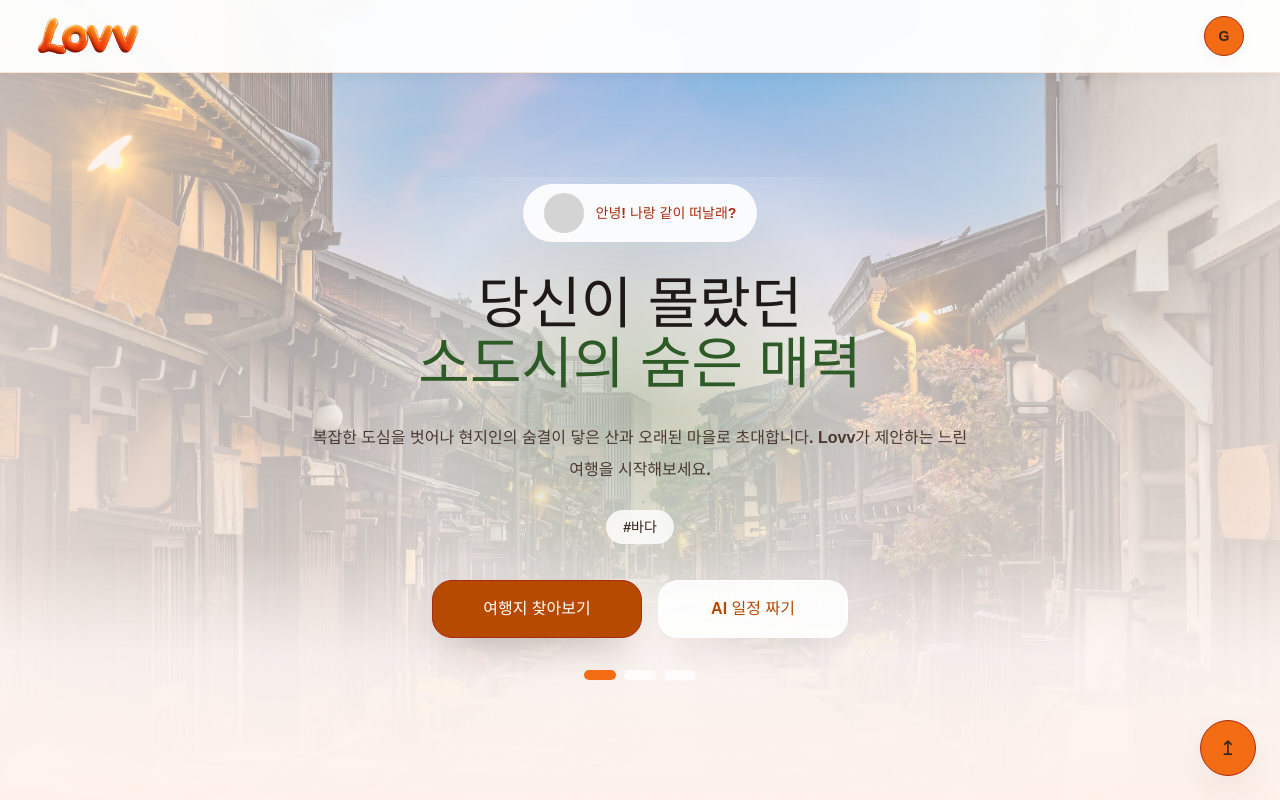
Test: MVP main entry screen › opens floating quick actions for chat and top navigation
Click the button named "빠른 이동 메뉴 열기". click: (1228, 748)
box: [1200,720,1256,776]
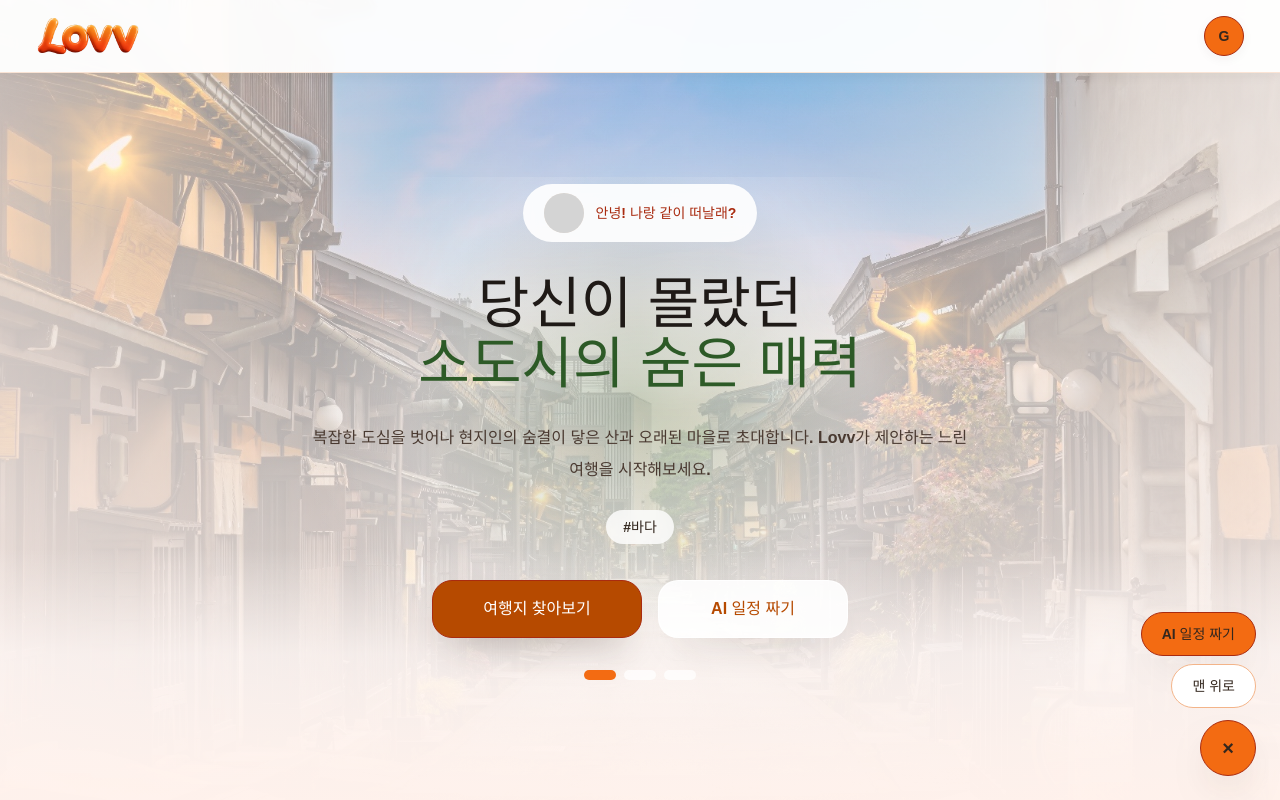
Result: the button with aria-label "AI 일정 짜기 바로가기" is shown
Result: the button with aria-label "맨 위로 이동" is shown at [1172,664,1256,708]
Click the button with aria-label "AI 일정 짜기 바로가기". click: (1198, 634)
box: [1141,612,1256,656]
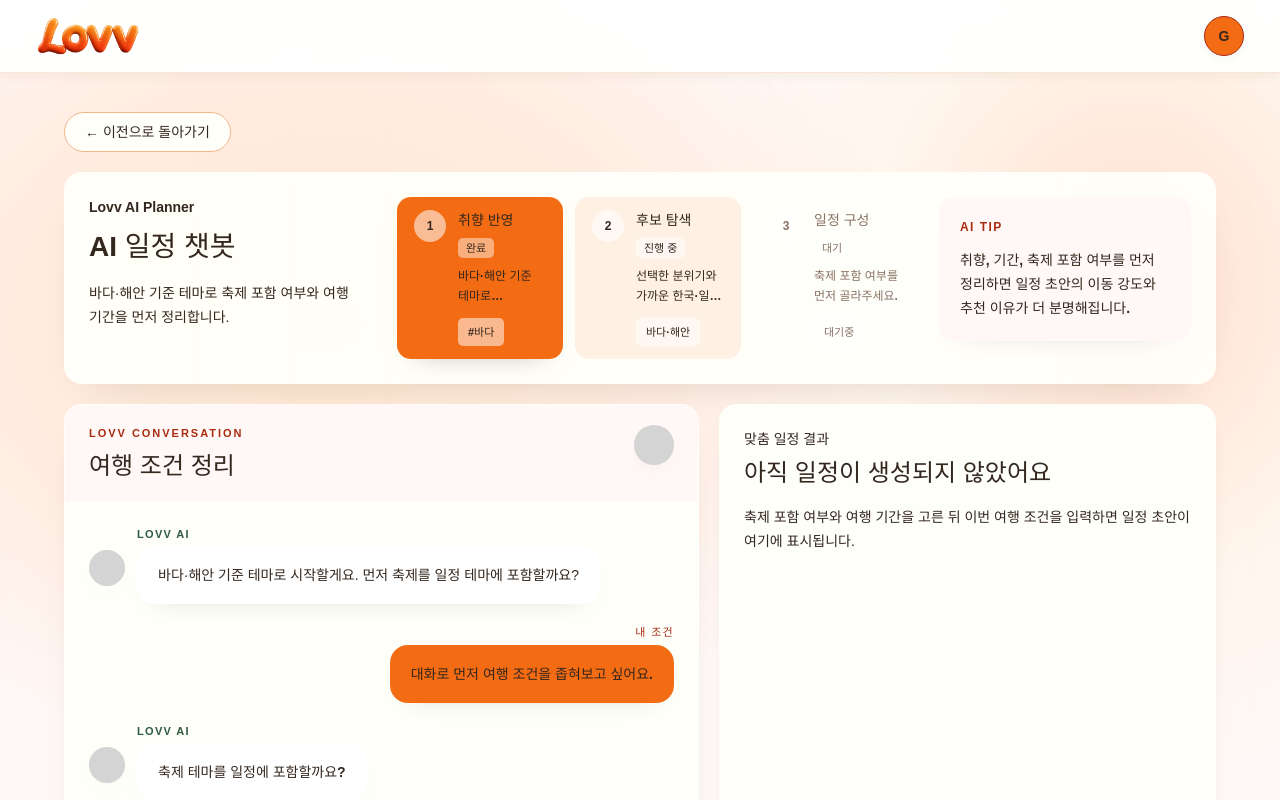
Result: the heading "AI 일정 챗봇" is shown at [89,231,236,262]
